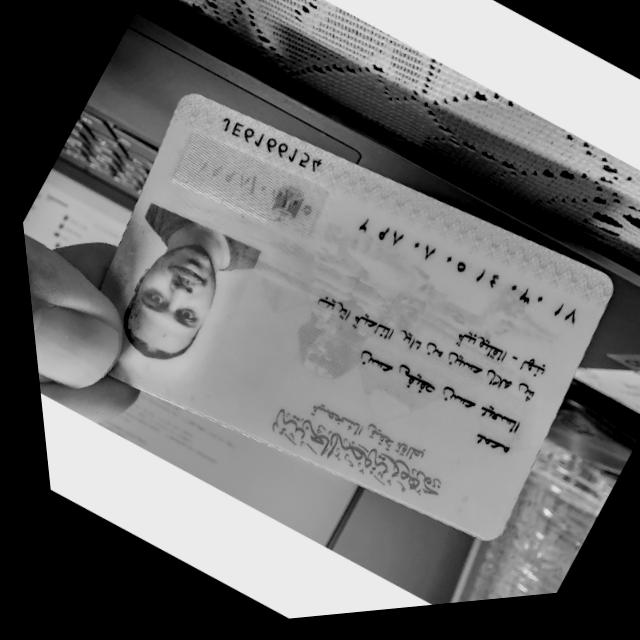id_card: (103, 94, 613, 539)
